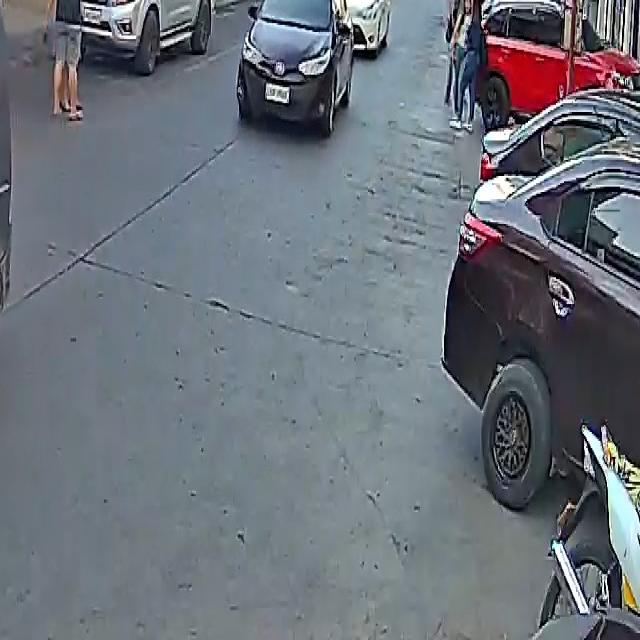car: (444, 76, 640, 527), (470, 0, 638, 130), (234, 0, 360, 135), (0, 0, 25, 610), (77, 0, 223, 69), (328, 0, 390, 52)
